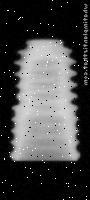Osstem Implant: (10, 38, 80, 161)
